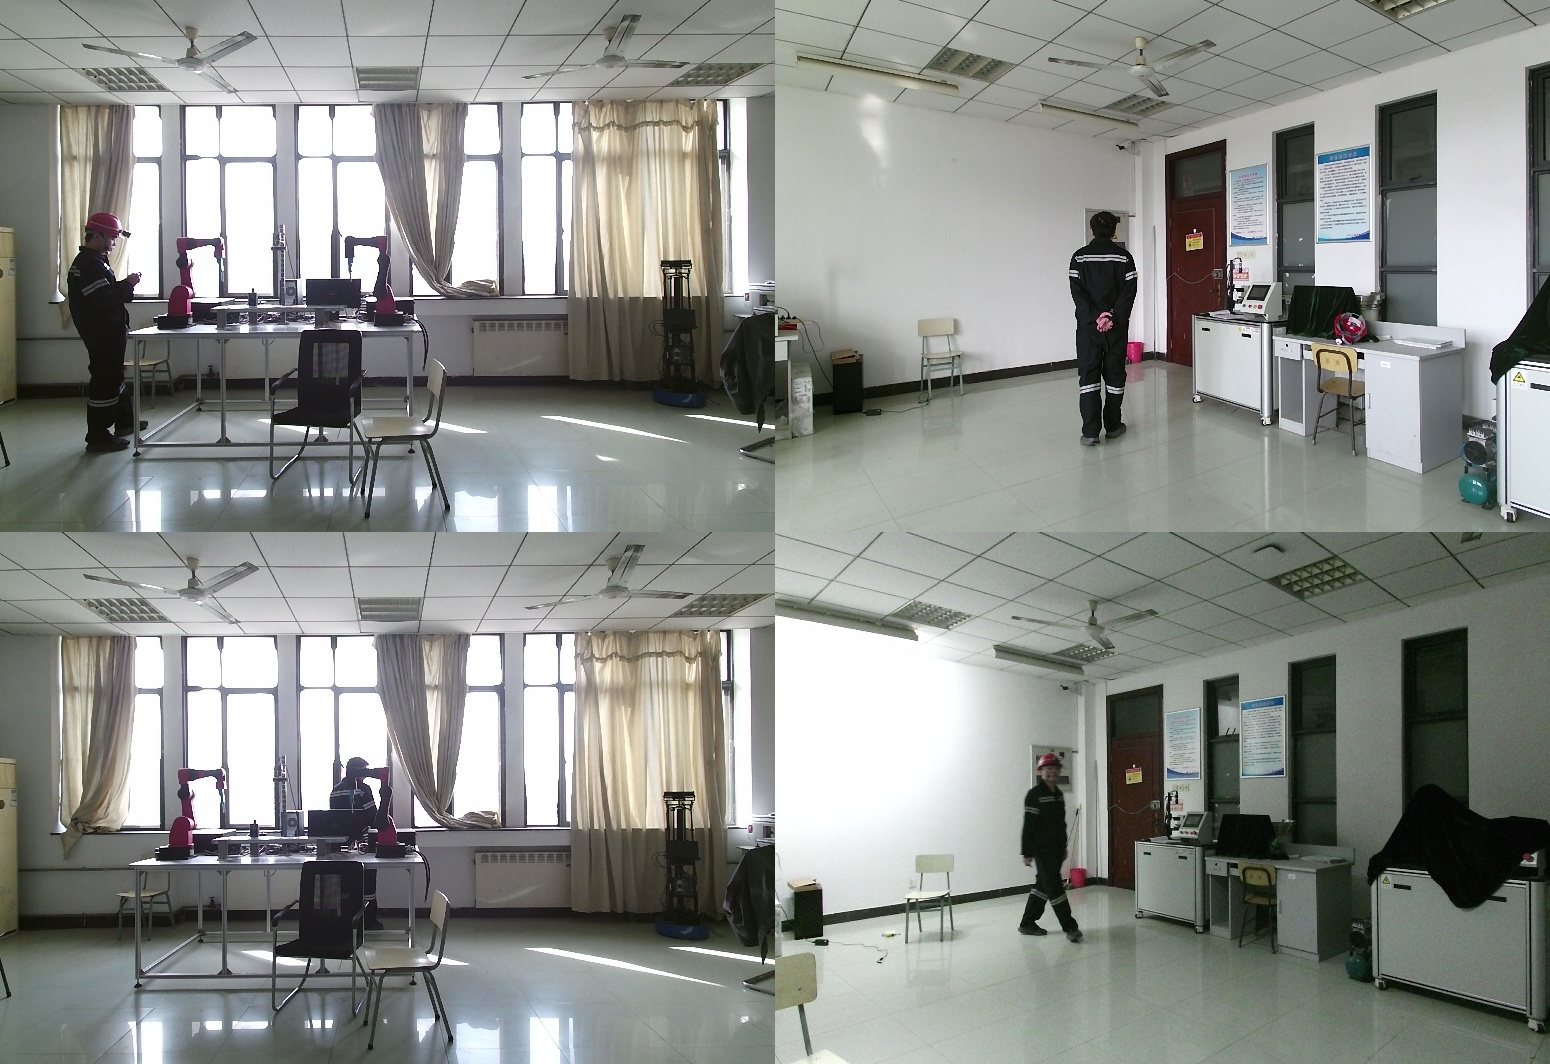person: (1063, 211, 1142, 450), (66, 213, 142, 453), (1017, 753, 1080, 951), (332, 758, 392, 935)
